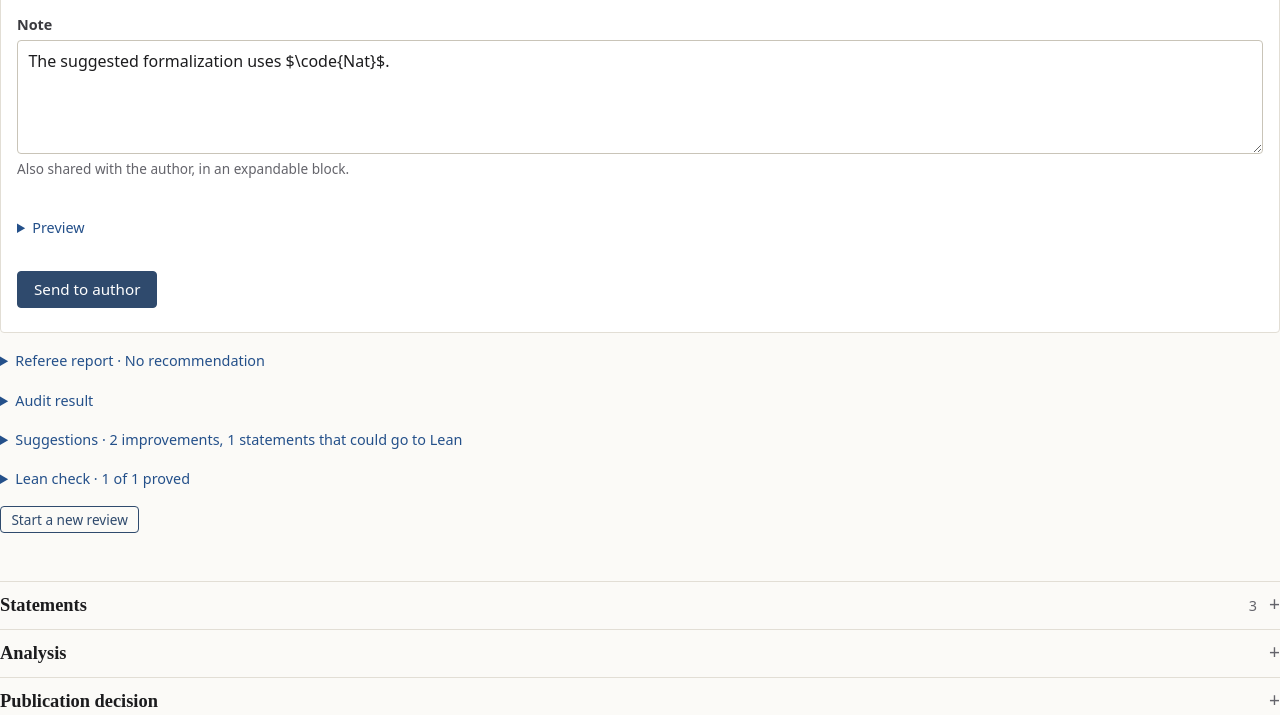
Test: referee workspace › renders an unreadable recommendation without inventing one
This screenshot has width=1280, height=715.
(page scrolled)
Click the heading "Referee report · No recommendation". click: click(140, 361)
box: [15, 352, 265, 370]
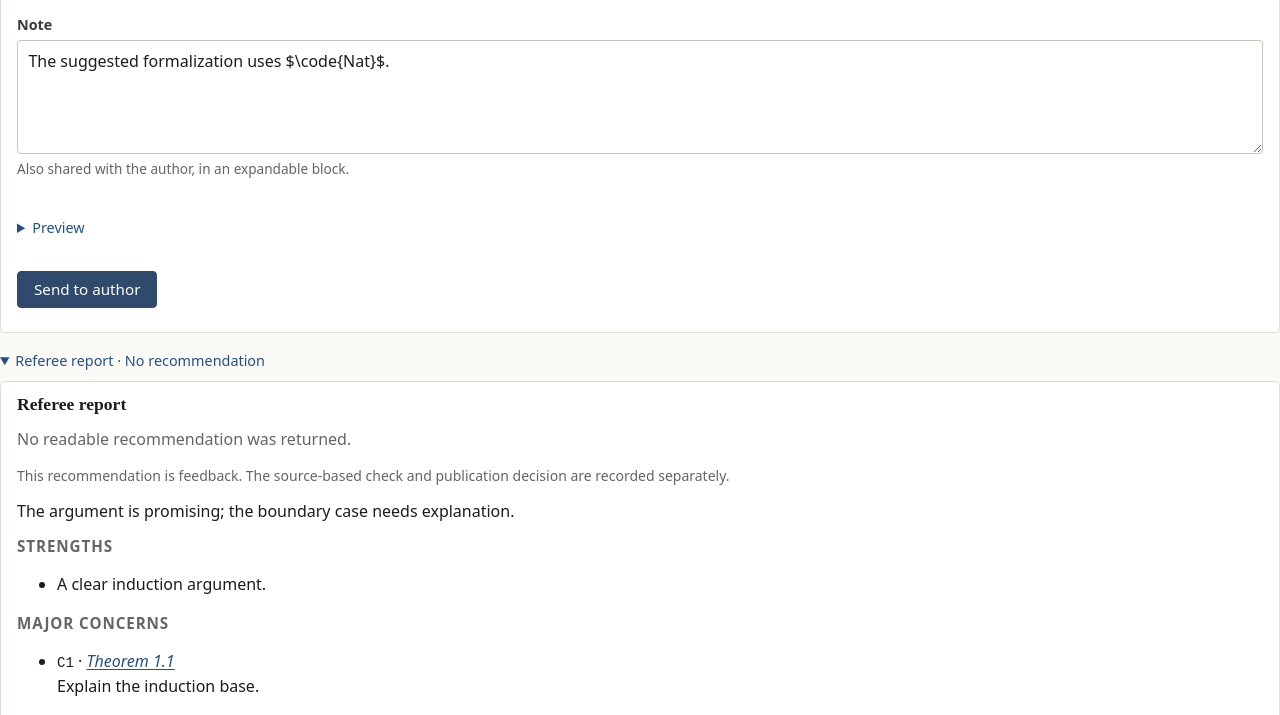
Expected: the text "No readable recommendation was returned." is shown, [17, 428, 351, 450]
